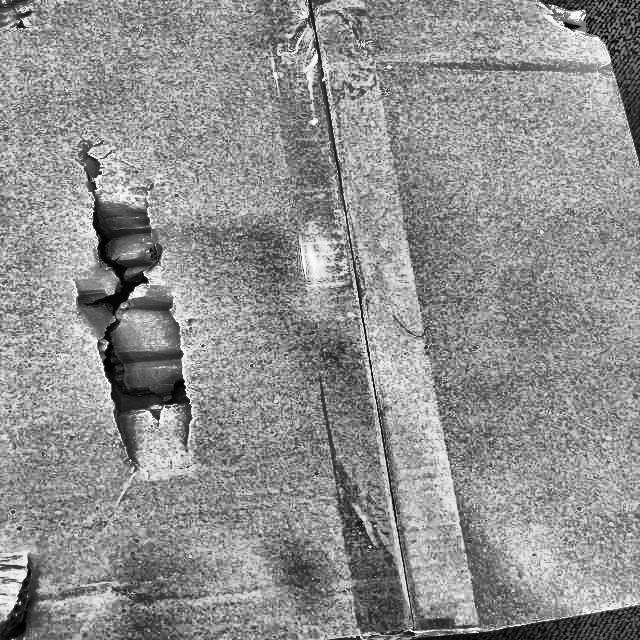box: (2, 1, 639, 639)
hole: (84, 191, 196, 417)
